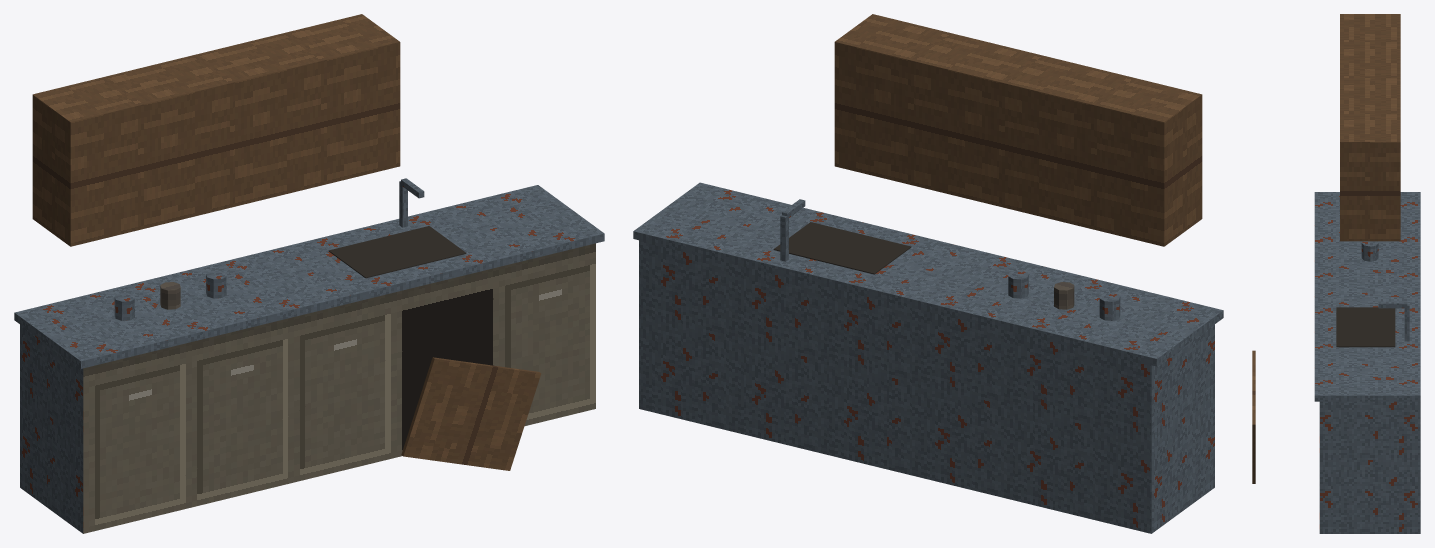
File: counter.gltf
The picture shows the model from 3 angles, left to right: view 1: azimuth 30°, elevation 25°; view 2: azimuth 150°, elevation 25°; view 3: azimuth 270°, elevation 25°; orthographic projection. The views are drawn at different scales.
Parts seen in each view (by area): view 1: counter; view 2: counter; view 3: counter.
Part boxes in pixels (bbox=[...]): counter: bbox=[14, 14, 604, 533]; counter: bbox=[633, 14, 1223, 533]; counter: bbox=[1252, 14, 1420, 533].
Size of the model in its own units: 2.86 by 2.1 by 1.
5 materials, 4 textured.
